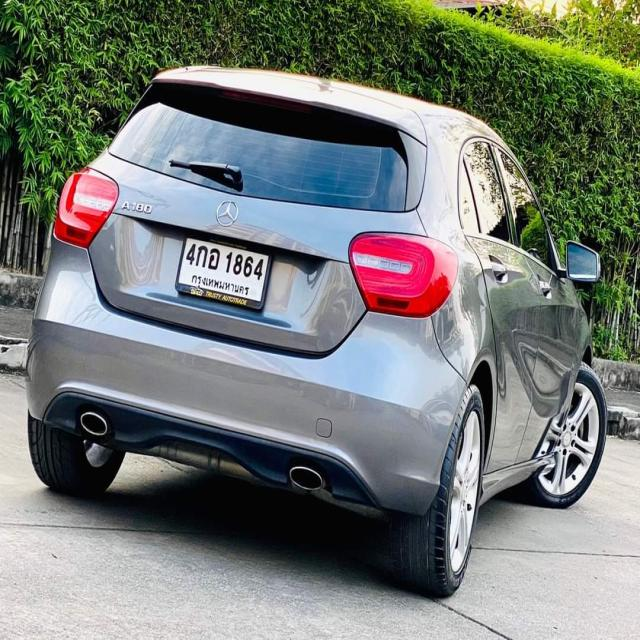license_plate: (172, 230, 278, 316)
